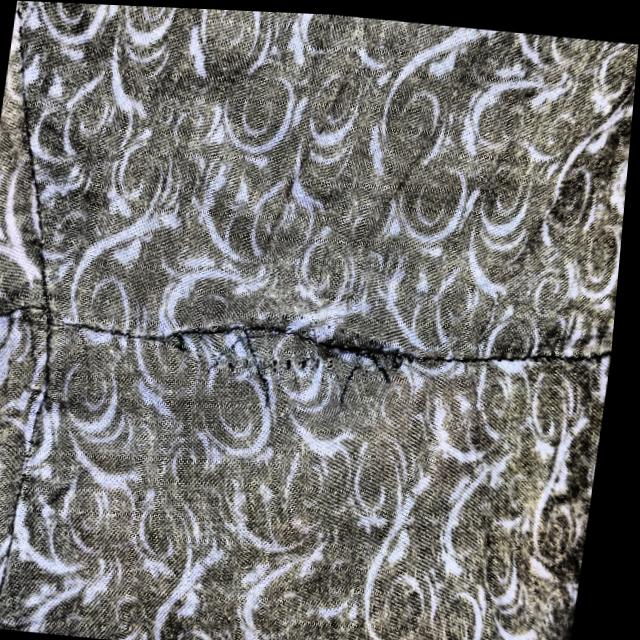seam: (127, 261, 435, 443)
